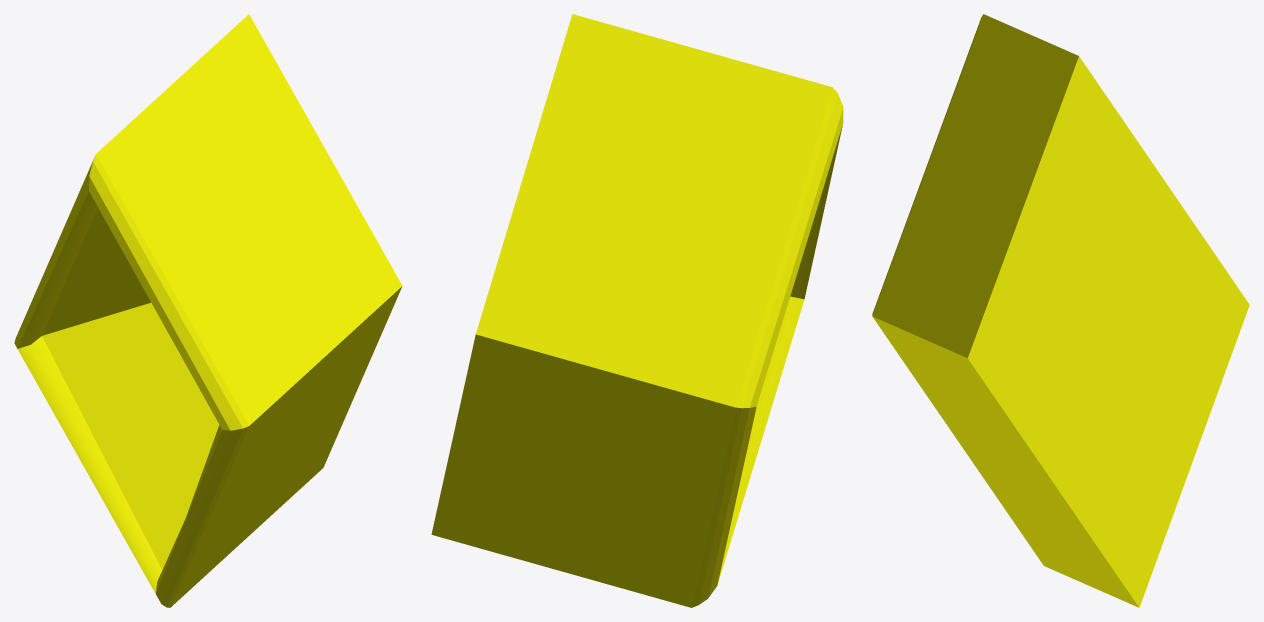
File: TL5_8shapes_Kite_Classic_Metal.001 2.glb
The picture shows the model from 3 angles, left to right: view 1: azimuth 30°, elevation 25°; view 2: azimuth 150°, elevation 25°; view 3: azimuth 270°, elevation 25°; orthographic projection. The views are drawn at different scales.
Visible parts, largest first — view 1: TL5_8shapes_Kite_Classic_Metal.001; view 2: TL5_8shapes_Kite_Classic_Metal.001; view 3: TL5_8shapes_Kite_Classic_Metal.001.
Part boxes in pixels (bbox=[...]): TL5_8shapes_Kite_Classic_Metal.001: bbox=[14, 14, 402, 607]; TL5_8shapes_Kite_Classic_Metal.001: bbox=[431, 14, 843, 607]; TL5_8shapes_Kite_Classic_Metal.001: bbox=[872, 14, 1249, 607].
Size of the model in its own units: 0.3911 by 0.6631 by 0.4075.
